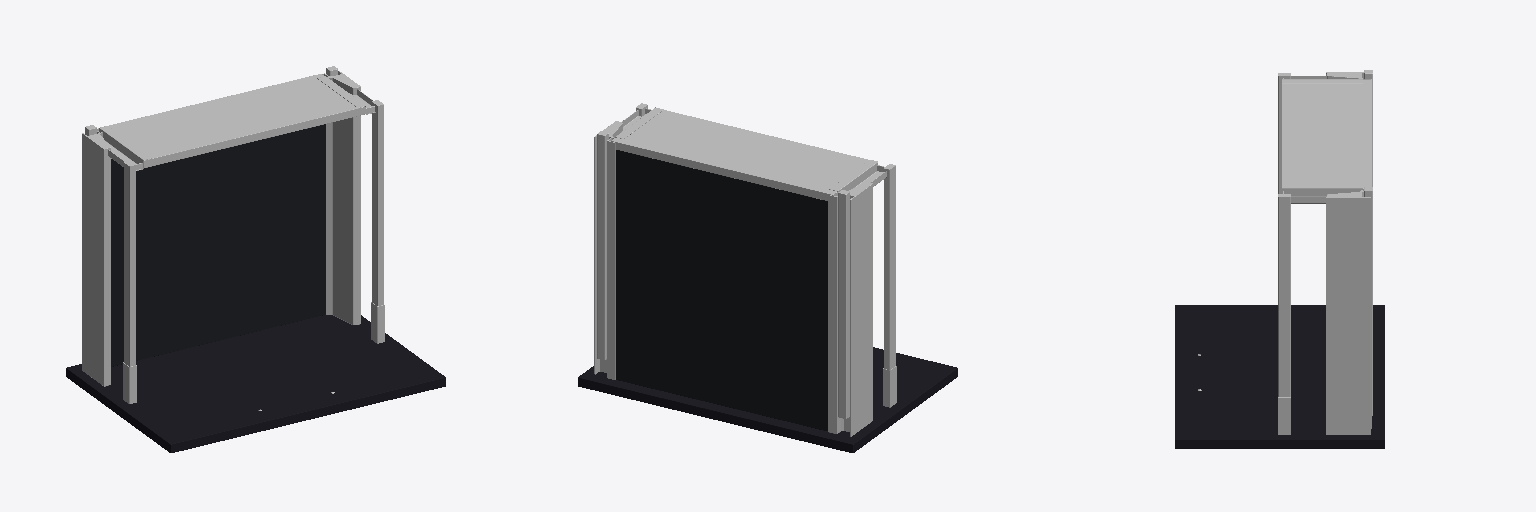
3 renders of one model, left to right at view 1: azimuth 30°, elevation 25°; view 2: azimuth 150°, elevation 25°; view 3: azimuth 270°, elevation 25°, orthographic.
Parts seen in each view (by area): view 1: SM_Kitchen_01_Drawer_02; view 2: SM_Kitchen_01_Drawer_02; view 3: SM_Kitchen_01_Drawer_02.
Part boxes in pixels (x1,y1,x2,y2): SM_Kitchen_01_Drawer_02: (66,66,445,452); SM_Kitchen_01_Drawer_02: (578,103,957,452); SM_Kitchen_01_Drawer_02: (1175,70,1384,448).
Bounding box in the file's own units: 0.5969 × 0.5199 × 0.3943.
Materials: 4 (2 with a texture image).